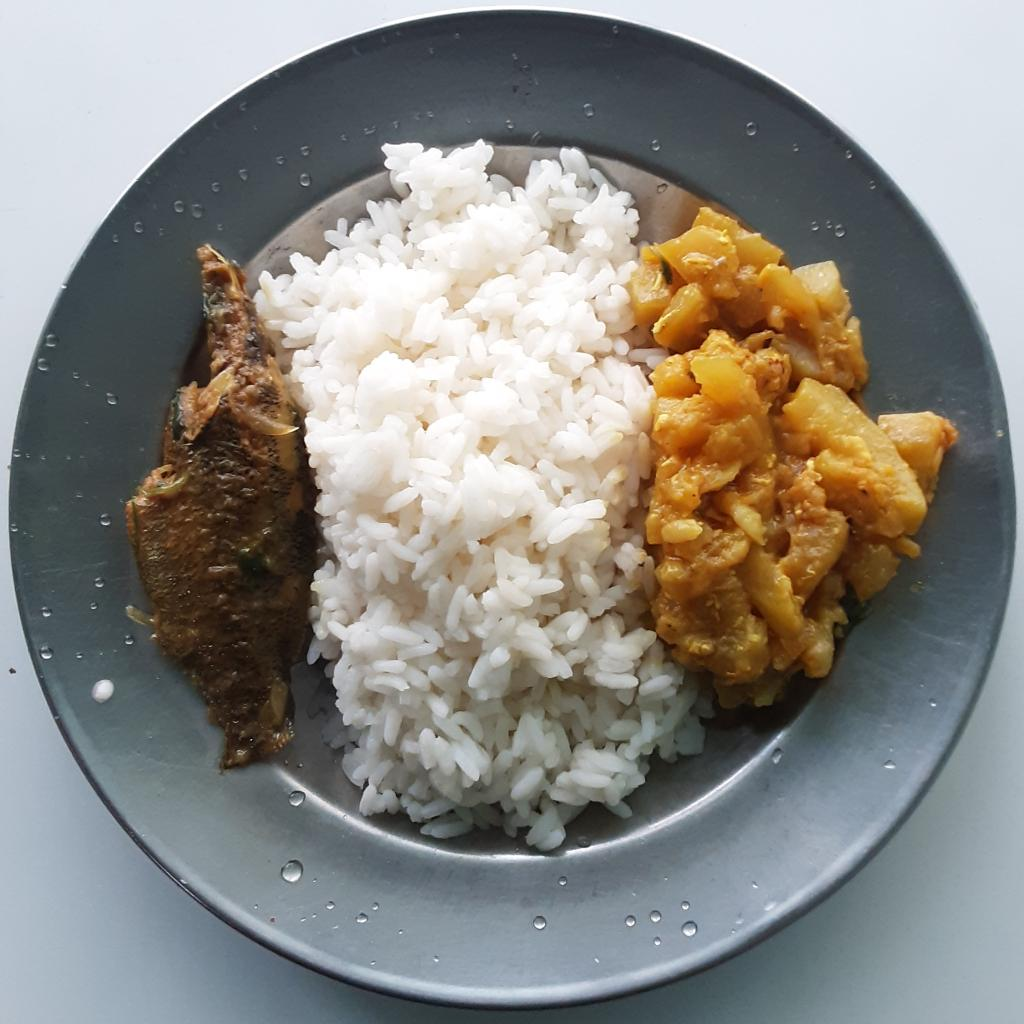fish: (121, 240, 317, 765)
lau: (635, 198, 948, 705)
rice: (255, 116, 716, 853)
